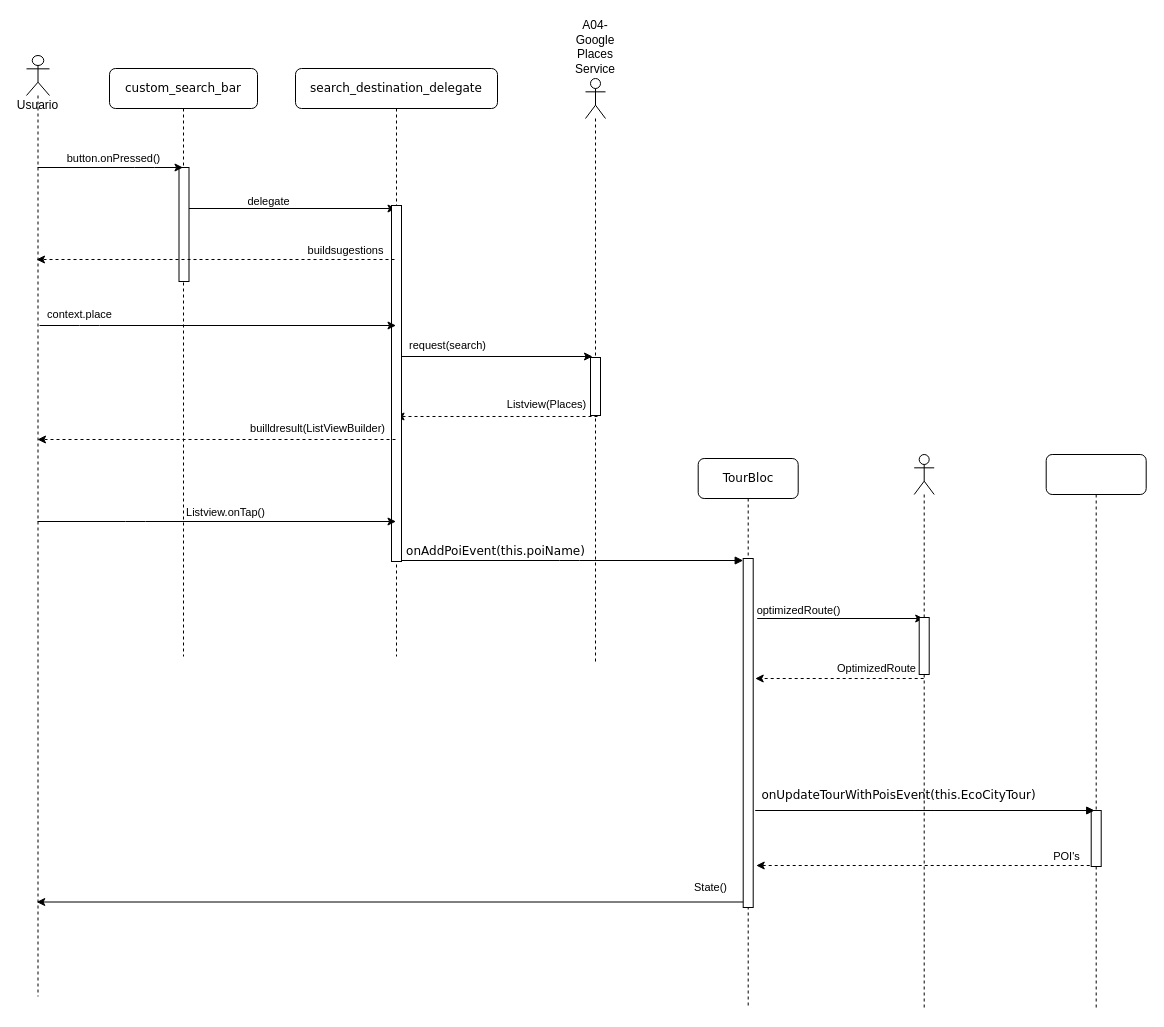
Some shapes in this 1164 by 1027 pixel diagram are drawn without their labels. Each missing label, with the box of its shape:
A05 - Google Direction Service: (913, 454, 934, 1008)
MapBloc: (1045, 454, 1146, 1010)
